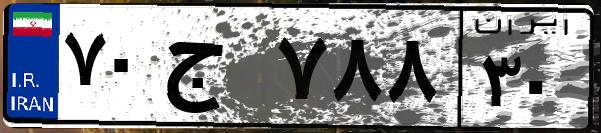0: (525, 38, 570, 115), (110, 28, 158, 98)
3: (475, 38, 525, 113)
7: (270, 28, 330, 110), (57, 26, 110, 100)
8: (385, 28, 445, 110), (330, 28, 385, 110)
ج: (158, 20, 270, 120)
